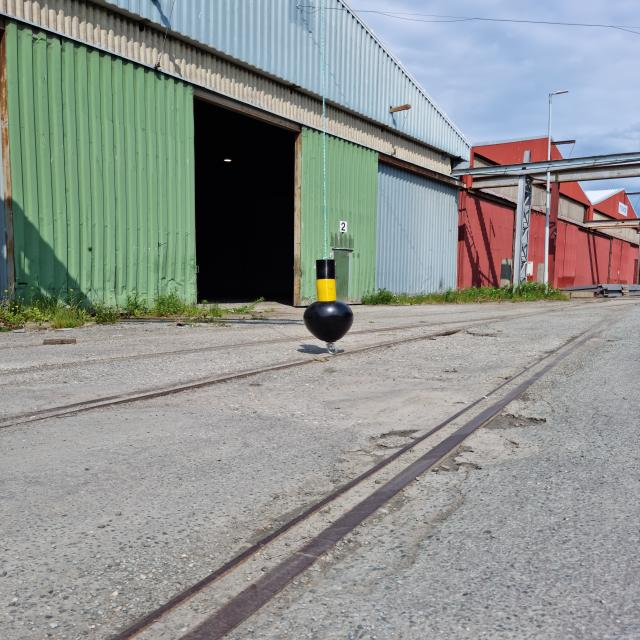east: (304, 259, 354, 342)
